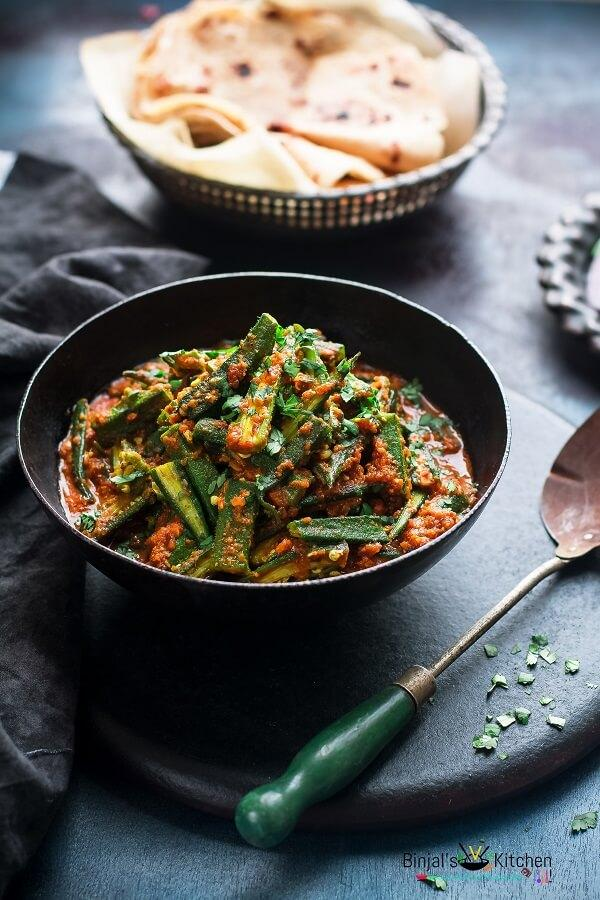bhindi: (63, 316, 430, 569)
roti phulka: (105, 0, 496, 198)
